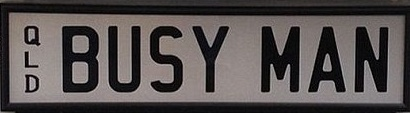character: (259, 24, 299, 92), (190, 23, 228, 92), (307, 24, 345, 93), (59, 25, 98, 92), (106, 23, 142, 92), (353, 24, 389, 92), (148, 24, 182, 92), (22, 23, 42, 48), (23, 71, 40, 94), (23, 49, 38, 69)
